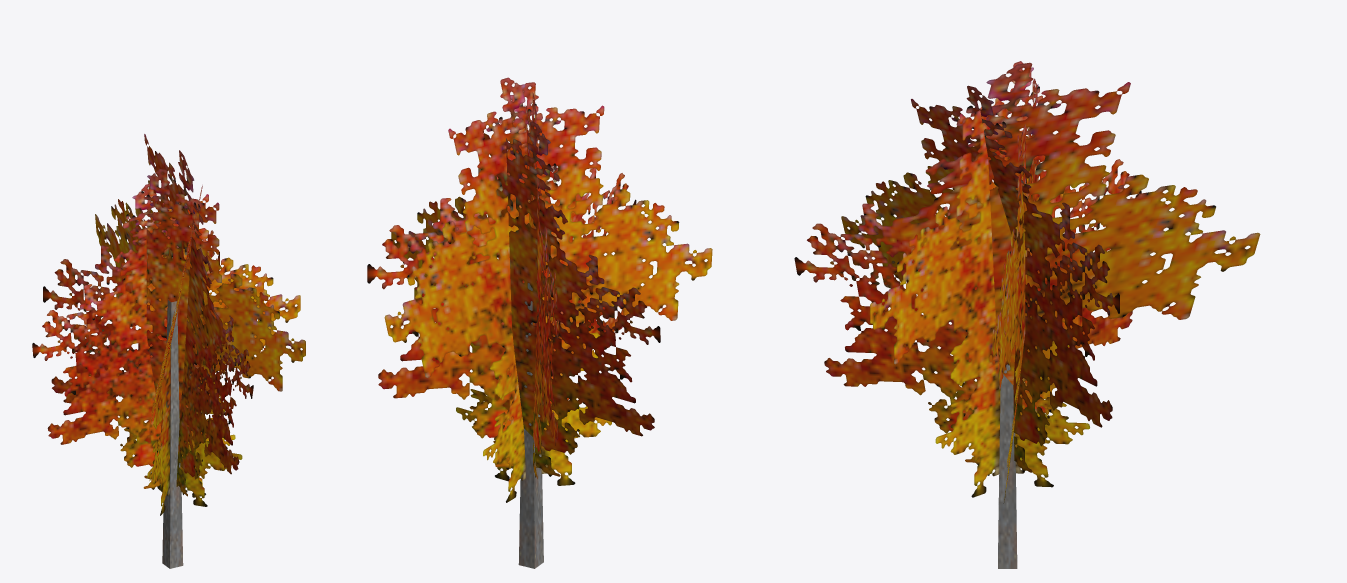
Rendered from Tree_5.fbx.
3 views of the same model, side by side, from view 1: azimuth 30°, elevation 25°; view 2: azimuth 150°, elevation 25°; view 3: azimuth 270°, elevation 25° (orthographic). The views are drawn at different scales.
Parts seen in each view (by area): view 1: Tree.5; view 2: Tree.5; view 3: Tree.5.
Boxes of the visible parts, <box> form: Tree.5: <box>32,134,305,568</box>; Tree.5: <box>367,77,712,568</box>; Tree.5: <box>794,61,1260,568</box>.
Bounding box in the file's own units: 628 × 1037 × 951.
